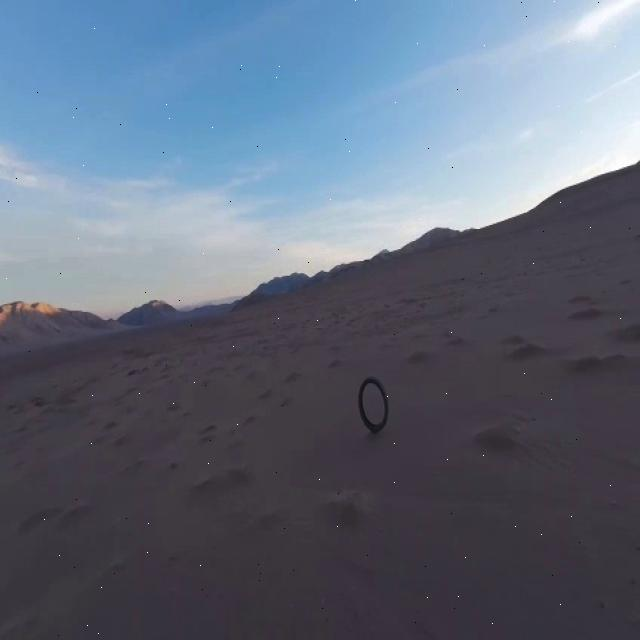Tire: (358, 376, 388, 432)
